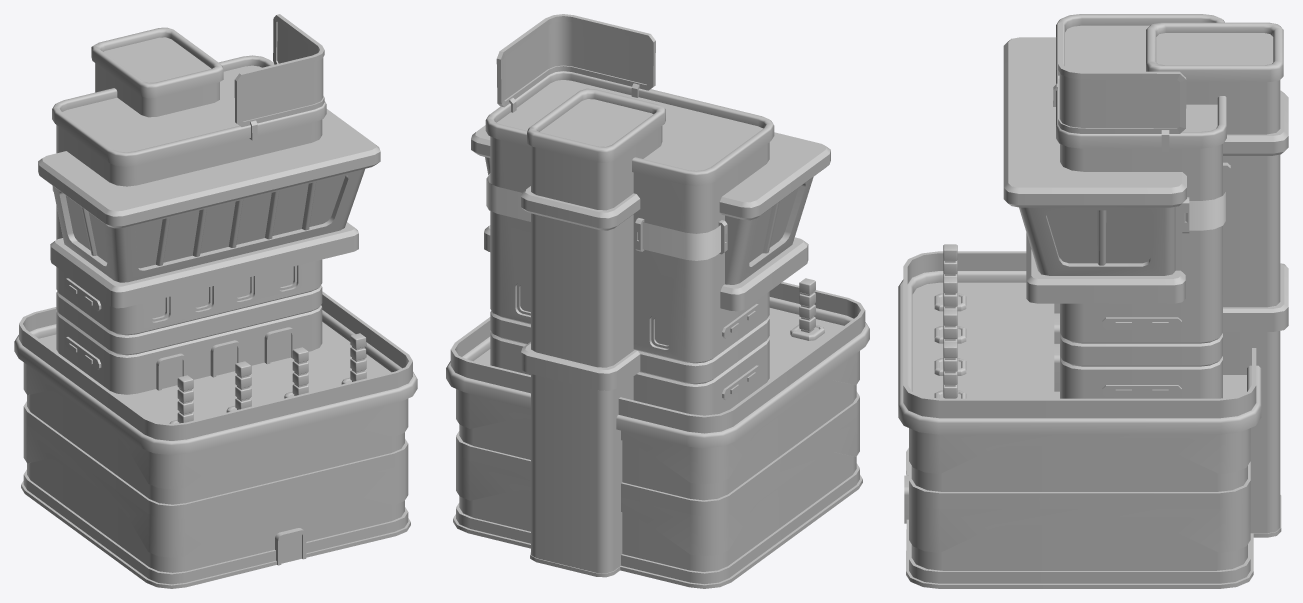
File: Futuristic_Building_SkylinePlaza.fbx
3 renders of one model, left to right at view 1: azimuth 30°, elevation 25°; view 2: azimuth 150°, elevation 25°; view 3: azimuth 270°, elevation 25°, orthographic. The views are drawn at different scales.
Parts seen in each view (by area): view 1: Futuristic_Building_SkylinePlaza; view 2: Futuristic_Building_SkylinePlaza; view 3: Futuristic_Building_SkylinePlaza.
Boxes of the visible parts, left/top/right/bottom form: Futuristic_Building_SkylinePlaza: left=14, top=14, right=417, bottom=588; Futuristic_Building_SkylinePlaza: left=446, top=14, right=869, bottom=588; Futuristic_Building_SkylinePlaza: left=898, top=14, right=1288, bottom=588.
Bounding box in the file's own units: 1938 × 2073 × 2941.
